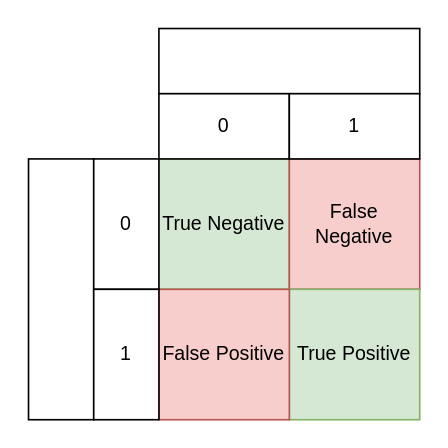
Image size: 448x448. Some labels were removed from this diagram. The shapes that lost their labels are listed below. From the top down, each one's centre as x and y in pixels, then its label:
At point 288,60: "Ground truth".
At point 60,288: "Class prediction".
